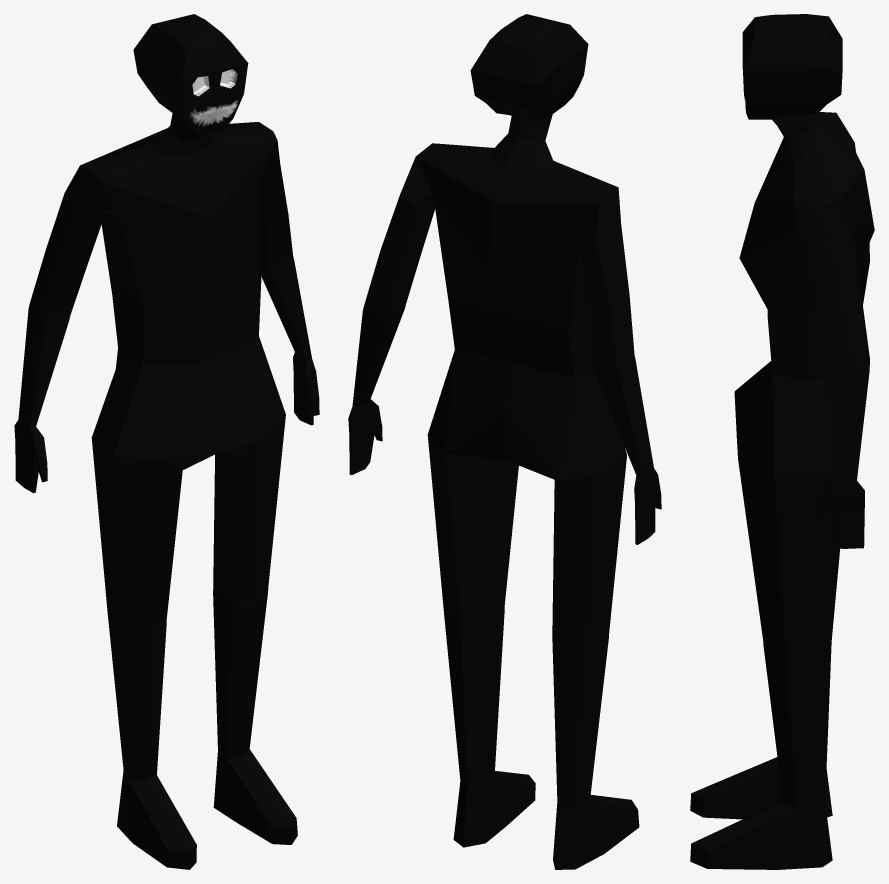
File: villian.glb
3 views of the same model, side by side, from view 1: azimuth 30°, elevation 25°; view 2: azimuth 150°, elevation 25°; view 3: azimuth 270°, elevation 25° (orthographic). The views are drawn at different scales.
Parts seen in each view (by area): view 1: Cube.001; view 2: Cube.001; view 3: Cube.001.
Boxes of the visible parts, left/top/right/bottom form: Cube.001: left=14, top=14, right=319, bottom=869; Cube.001: left=348, top=14, right=661, bottom=869; Cube.001: left=690, top=14, right=874, bottom=869.
Size of the model in its own units: 0.793 by 2.12 by 0.4335.
Materials: 1 (1 with a texture image).
